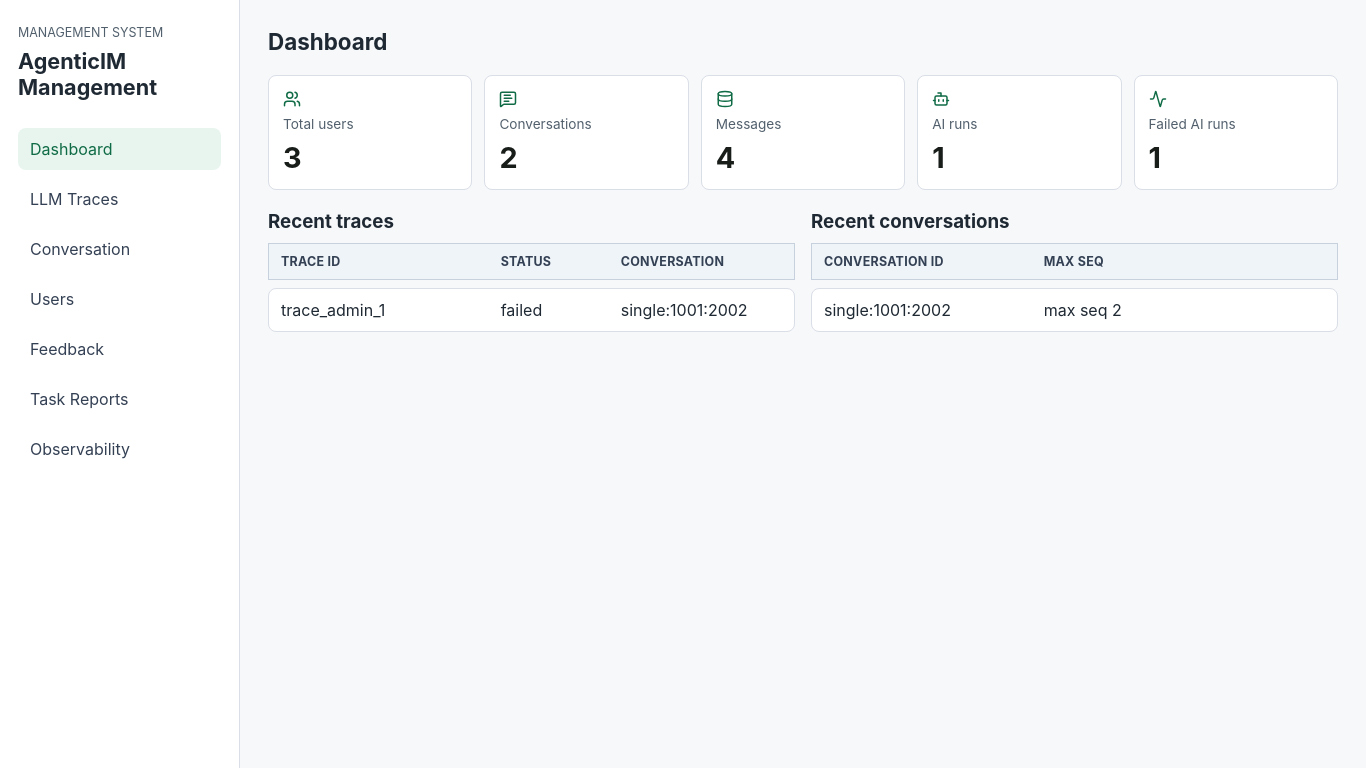
Test: AdminConsole › renders a default conversation list and opens a listed conversation
Click the button "Conversation".
click(120, 249)  # box [18, 228, 221, 270]
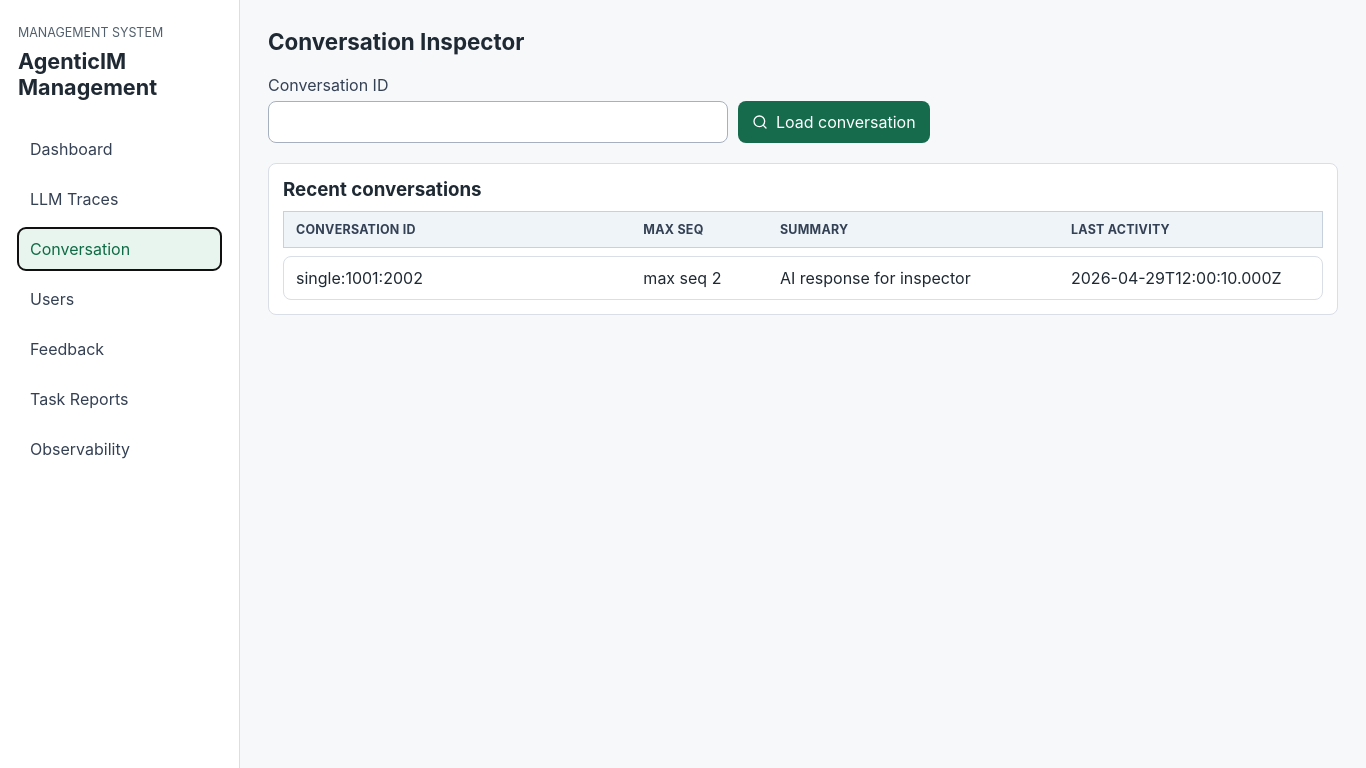
Expected: the text "single:1001:2002" is shown, [296, 268, 423, 288]
Result: the text "AI response for inspector" is shown at [780, 268, 971, 288]
Result: the text "2026-04-29T12:00:10.000Z" is shown at [1071, 268, 1310, 288]
Click the button with aria-label "Open conversation single:1001:2002".
click(803, 278)  # box [283, 256, 1323, 300]
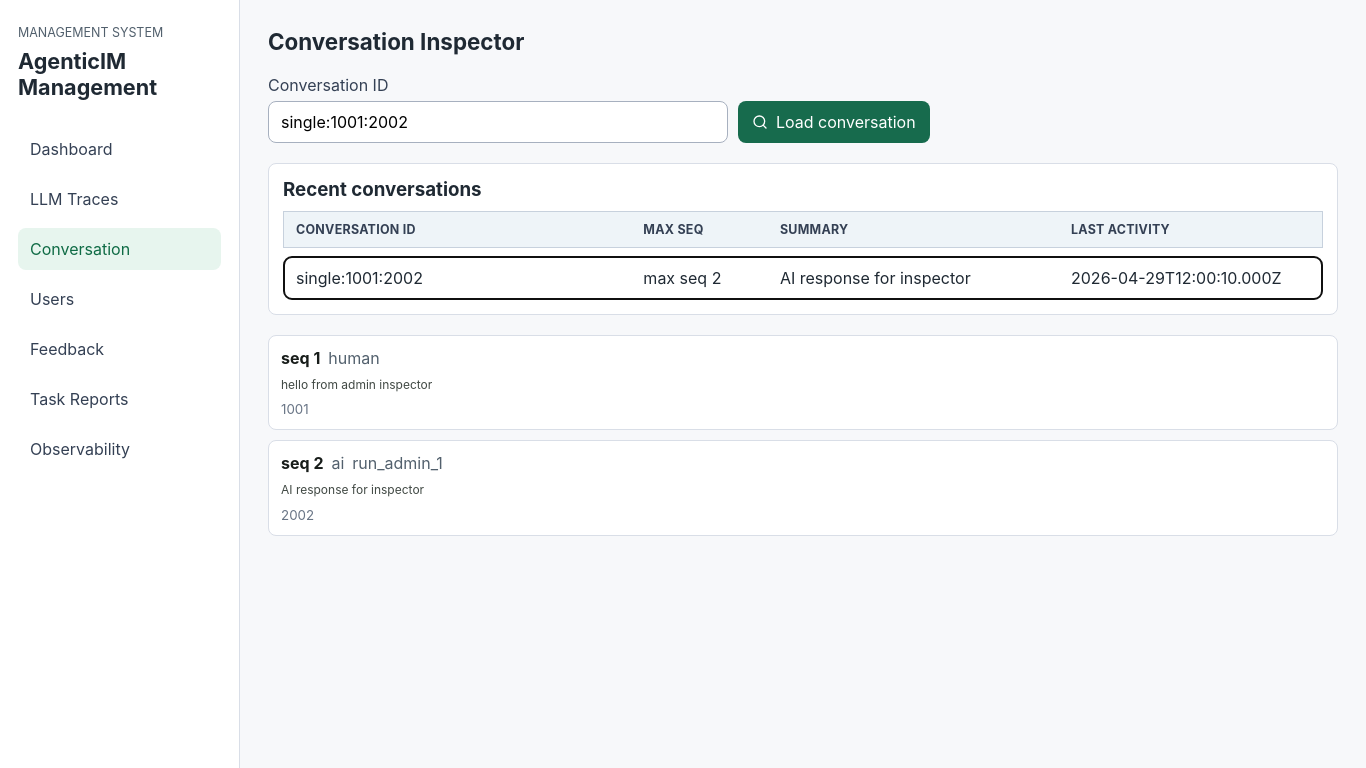
Result: the text "hello from admin inspector" is shown at [281, 377, 432, 392]
Result: the text "AI response for inspector" below "run_admin_1" is shown at [281, 482, 424, 497]
